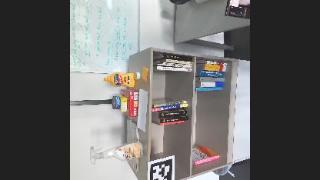book-spine: (193, 154, 220, 165), (151, 103, 188, 111), (154, 99, 187, 107), (198, 69, 224, 78), (158, 109, 187, 117), (160, 115, 189, 123), (163, 53, 193, 60), (204, 63, 227, 72), (157, 61, 191, 67), (157, 66, 191, 71), (166, 58, 193, 64), (200, 81, 224, 87), (199, 76, 225, 81), (160, 120, 184, 125), (204, 60, 227, 65), (196, 86, 221, 90)
